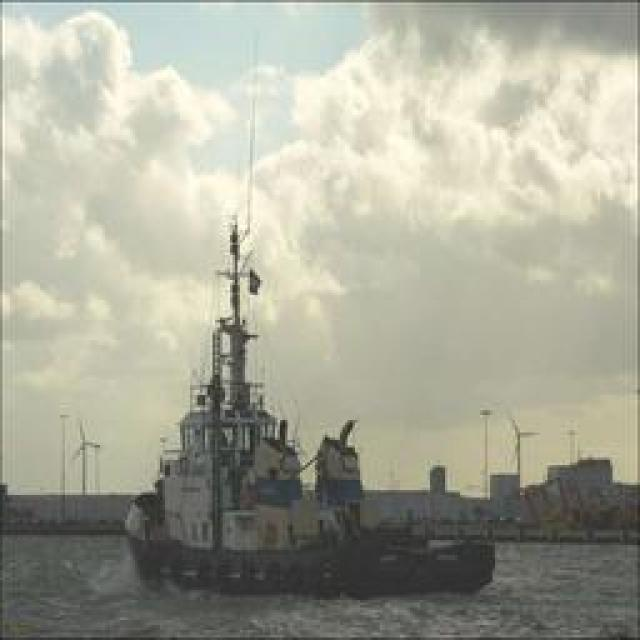CIV_Ship: (131, 228, 494, 602)
